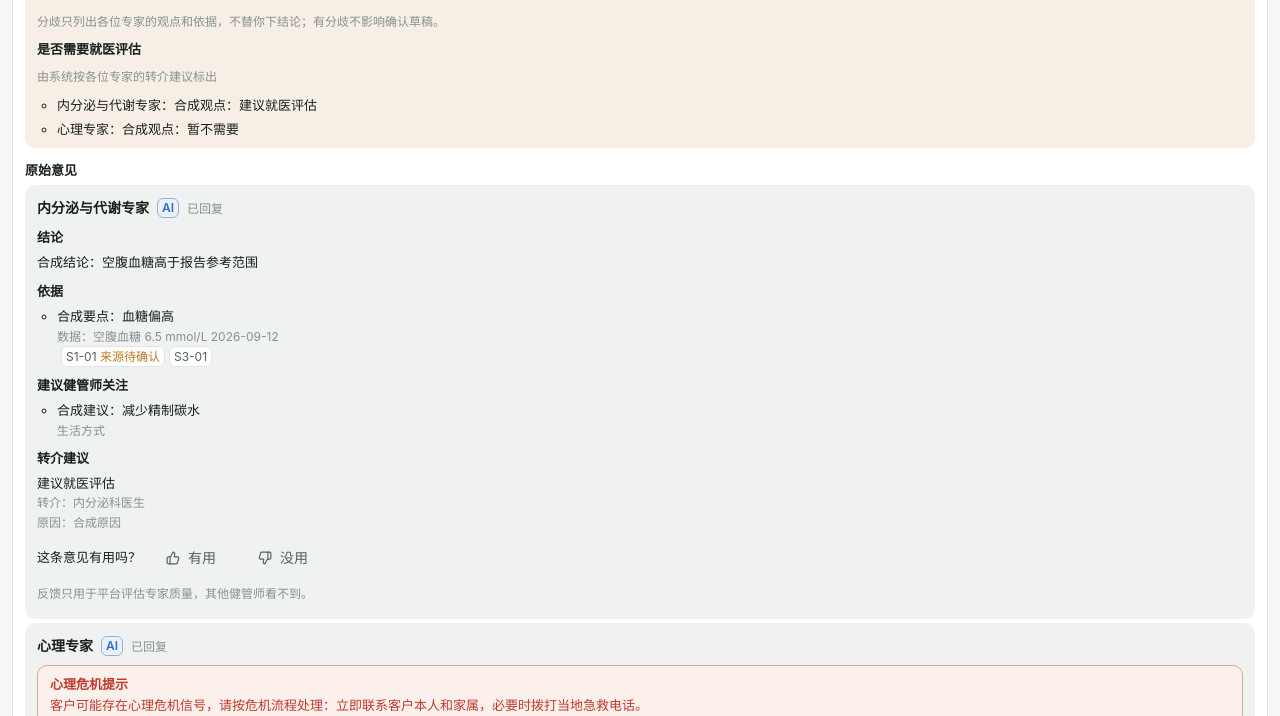
Test: 专家标签（规格 2.7、Q14、Q20） › 危机提示在最前面；列出汇总、分歧、原始意见和引用；“没用”只选原因类别
(page scrolled)
Expected: the element "专家分歧（1 处）" shows "有分歧不影响确认草稿", left=37, top=14, right=445, bottom=28
Expected: the element "专家分歧（1 处）" shows "心理专家：合成观点：暂不需要", left=57, top=122, right=239, bottom=138
Click the button with aria-label "查看引用 S1-01".
click(113, 356)  # box left=61, top=346, right=165, bottom=367
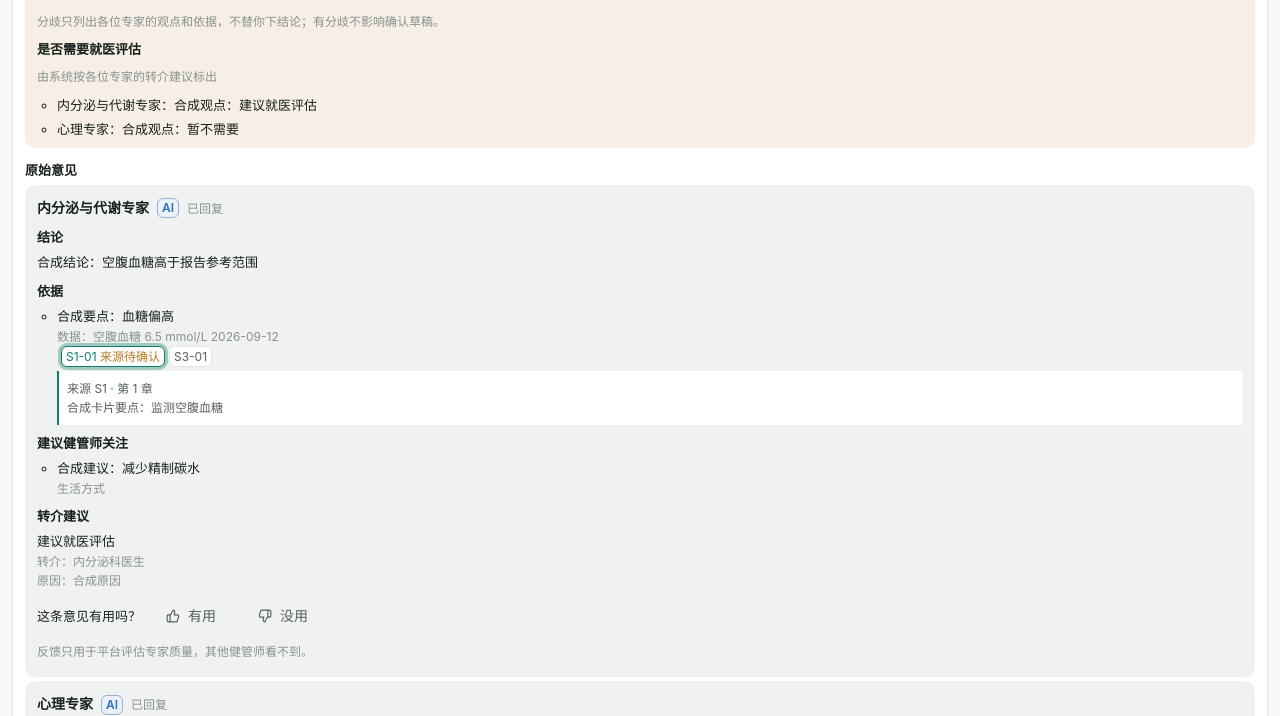
Result: the text "合成卡片要点：监测空腹血糖" is shown at left=67, top=400, right=223, bottom=415
# 反馈：没用 → 选原因类别 → 提交；没有自由文字输入框
Click the button "没用".
click(283, 616)  # box left=241, top=598, right=325, bottom=634
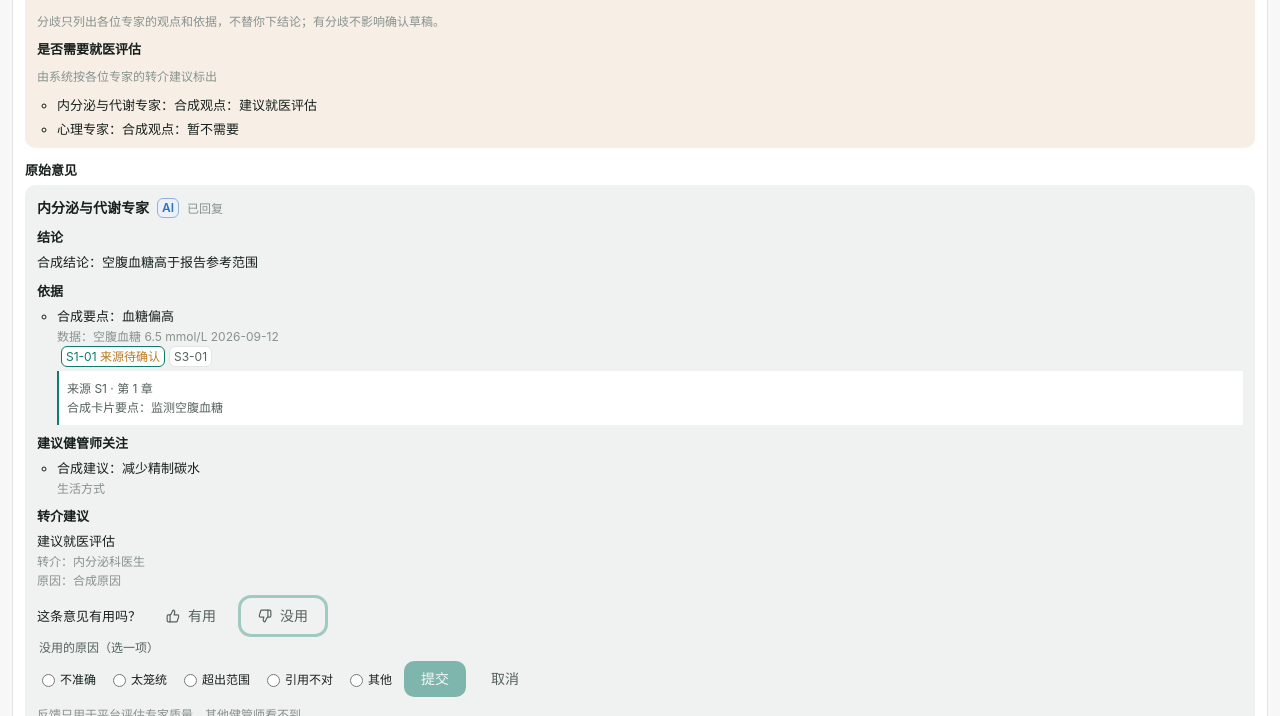
Result: the button "提交" is disabled at left=404, top=661, right=466, bottom=697
Click the radio button labelled "引用不对".
click(274, 681)  # box left=267, top=674, right=280, bottom=687
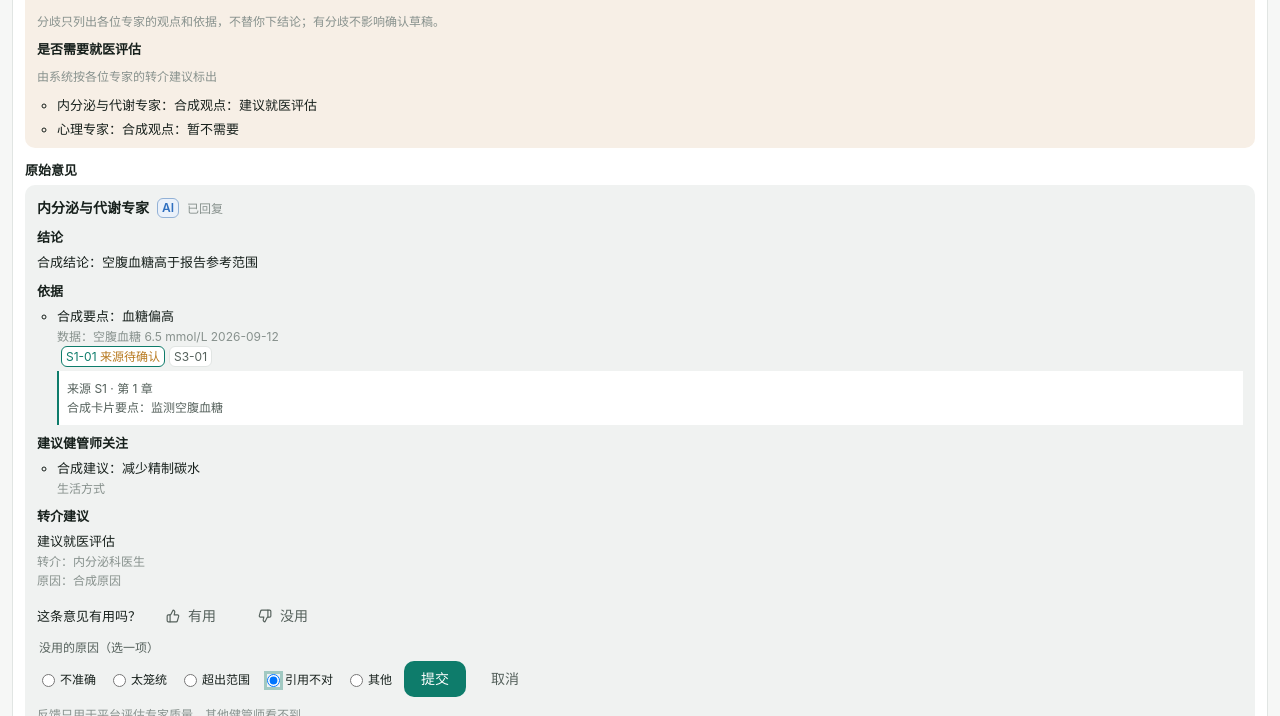
Click the button "提交".
click(435, 679)  # box left=404, top=661, right=466, bottom=697
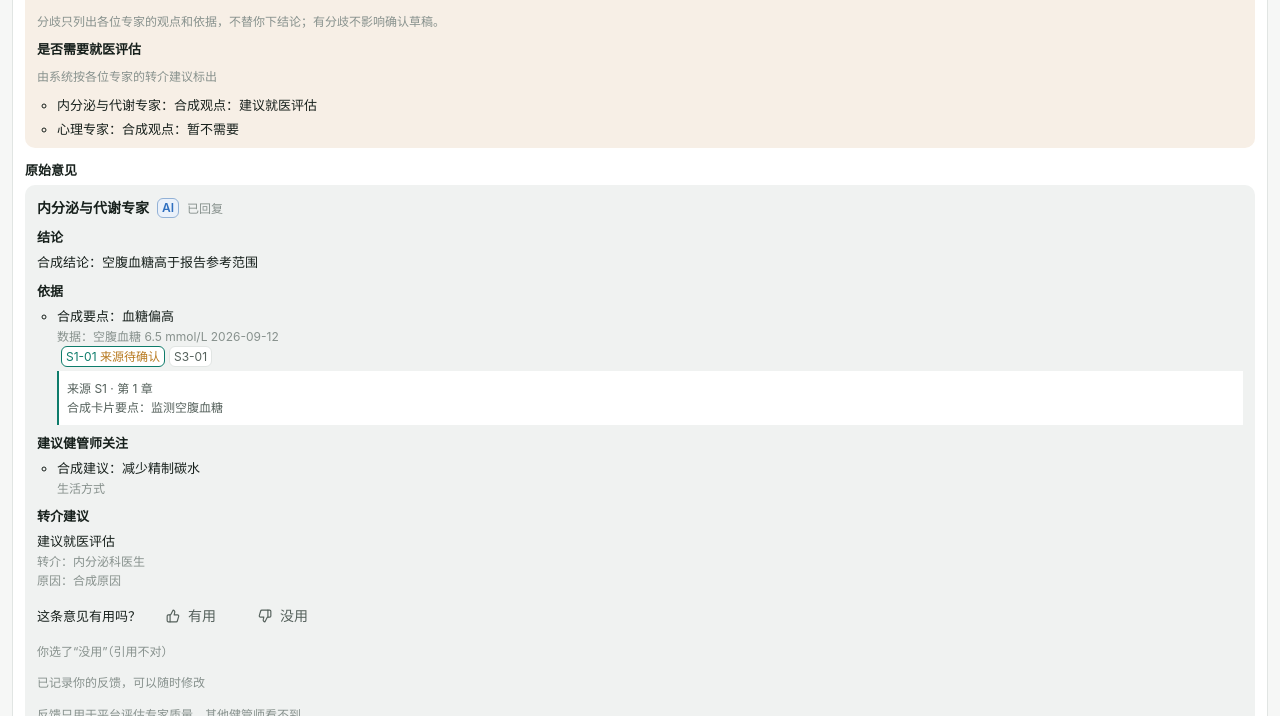
Result: the text "你选了“没用”（引用不对）" is shown at left=37, top=644, right=174, bottom=659
